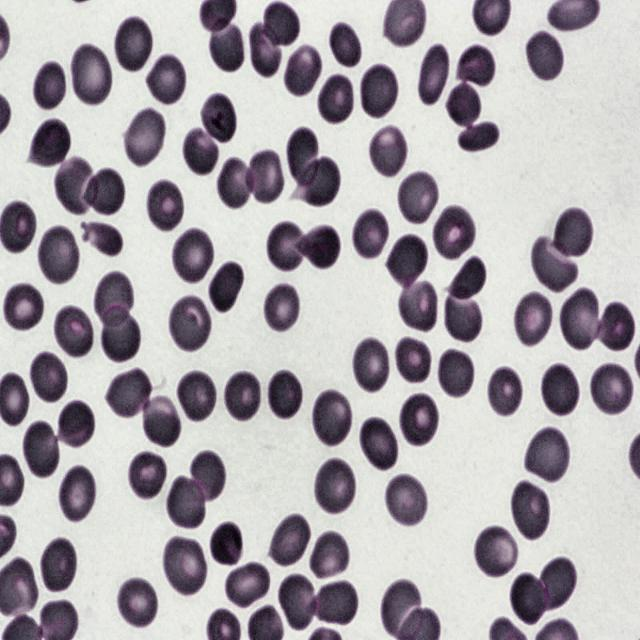red blood cell: (530, 232, 580, 294), (160, 534, 208, 598), (170, 224, 218, 288), (559, 285, 602, 353), (291, 154, 342, 210), (69, 42, 112, 108), (91, 267, 136, 330), (379, 578, 424, 640), (524, 425, 570, 484), (124, 104, 166, 168), (168, 293, 212, 354), (52, 154, 98, 212), (37, 224, 80, 286), (431, 203, 475, 263), (98, 304, 142, 364), (509, 478, 550, 542), (313, 456, 356, 517), (277, 572, 319, 634), (310, 388, 353, 448), (474, 524, 520, 580), (589, 361, 635, 417), (534, 556, 577, 614), (385, 233, 429, 289), (384, 473, 428, 529), (397, 169, 440, 226), (58, 464, 98, 525), (166, 473, 208, 531), (80, 165, 125, 219), (224, 558, 272, 608), (140, 391, 182, 448), (114, 579, 158, 633), (53, 305, 95, 361), (442, 286, 484, 342), (105, 370, 152, 420), (22, 421, 61, 481), (358, 416, 399, 473), (349, 338, 389, 396), (283, 42, 323, 100), (269, 513, 311, 568), (452, 40, 498, 90), (317, 70, 358, 126), (398, 391, 438, 448), (510, 569, 550, 626), (113, 14, 152, 72), (38, 536, 77, 594), (367, 123, 408, 178), (28, 119, 72, 170), (417, 42, 451, 108), (398, 276, 438, 332), (282, 125, 318, 187), (266, 220, 308, 273), (359, 63, 398, 120), (145, 177, 184, 234), (146, 53, 187, 107), (514, 292, 555, 346), (245, 149, 285, 204), (176, 369, 217, 422), (3, 281, 44, 334), (28, 350, 68, 404), (188, 448, 228, 502), (539, 361, 580, 413), (552, 207, 592, 260), (596, 300, 636, 353), (312, 580, 358, 626), (444, 80, 484, 132), (297, 224, 341, 271), (525, 30, 564, 83), (223, 370, 262, 423), (486, 364, 524, 418), (207, 260, 245, 314), (309, 531, 350, 581), (392, 334, 432, 385), (217, 156, 254, 211), (182, 125, 221, 177), (268, 369, 306, 422), (249, 19, 283, 78), (56, 399, 95, 450), (209, 19, 245, 74), (263, 0, 302, 50), (128, 450, 166, 501), (263, 282, 300, 334), (32, 59, 68, 112), (437, 348, 474, 399), (352, 208, 388, 260), (326, 20, 363, 70), (80, 218, 126, 258), (446, 257, 486, 299), (210, 524, 246, 570), (454, 122, 499, 152)
ring: (199, 92, 238, 145)
